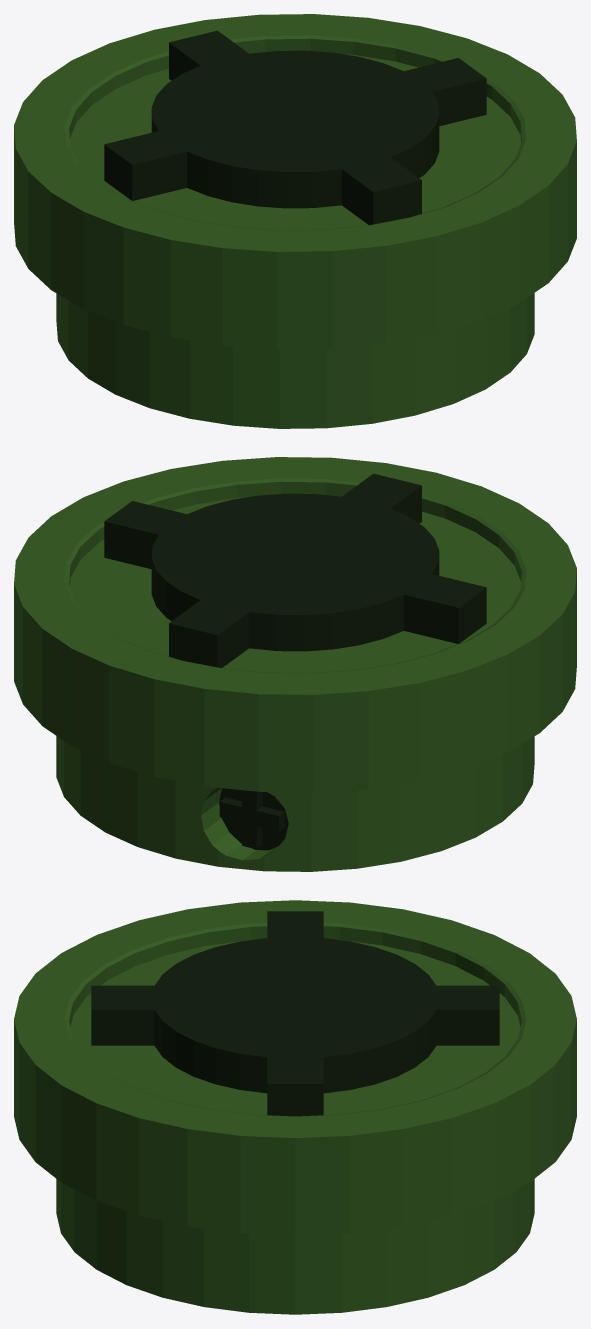
Rendered from bettermine.fbx.
3 views of the same model, one above another, from view 1: azimuth 30°, elevation 25°; view 2: azimuth 150°, elevation 25°; view 3: azimuth 270°, elevation 25° (orthographic).
Parts seen in each view (by area): view 1: mine-body, mine-pad, mine-lid; view 2: mine-body, mine-pad, mine-lid, mine-screw-side; view 3: mine-body, mine-pad, mine-lid.
Part boxes in pixels (left/top/right/bottom): mine-body: left=14, top=14, right=576, bottom=428; mine-pad: left=104, top=30, right=486, bottom=224; mine-lid: left=70, top=54, right=520, bottom=230; mine-body: left=14, top=457, right=576, bottom=871; mine-pad: left=104, top=473, right=486, bottom=667; mine-lid: left=70, top=497, right=520, bottom=673; mine-screw-side: left=219, top=788, right=288, bottom=850; mine-body: left=14, top=900, right=576, bottom=1314; mine-pad: left=91, top=911, right=499, bottom=1116; mine-lid: left=70, top=940, right=520, bottom=1115.
Size of the model in its own units: 9354 by 3961 by 9354.
